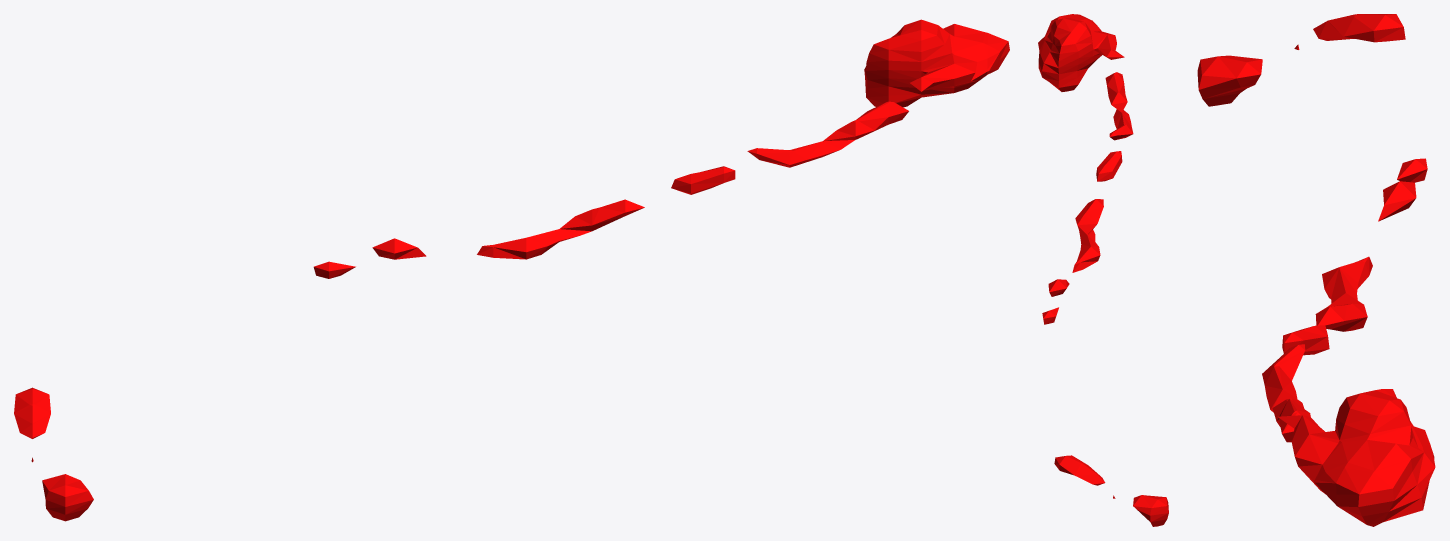
Rendered from yciW_coarse.dae.
The picture shows the model from 3 angles, left to right: view 1: azimuth 90°, elevation 25°; view 2: azimuth 150°, elevation 25°; view 3: azimuth 330°, elevation 25°; orthographic projection. The views are drawn at different scales.
Visible parts, largest first — view 1: yciW; view 2: yciW; view 3: yciW.
Boxes of the visible parts, bbox=[...] form: yciW: bbox=[14, 19, 1009, 521]; yciW: bbox=[1038, 14, 1168, 526]; yciW: bbox=[1197, 14, 1435, 526].
Bounding box in the file's own units: 300 × 108 × 423.
